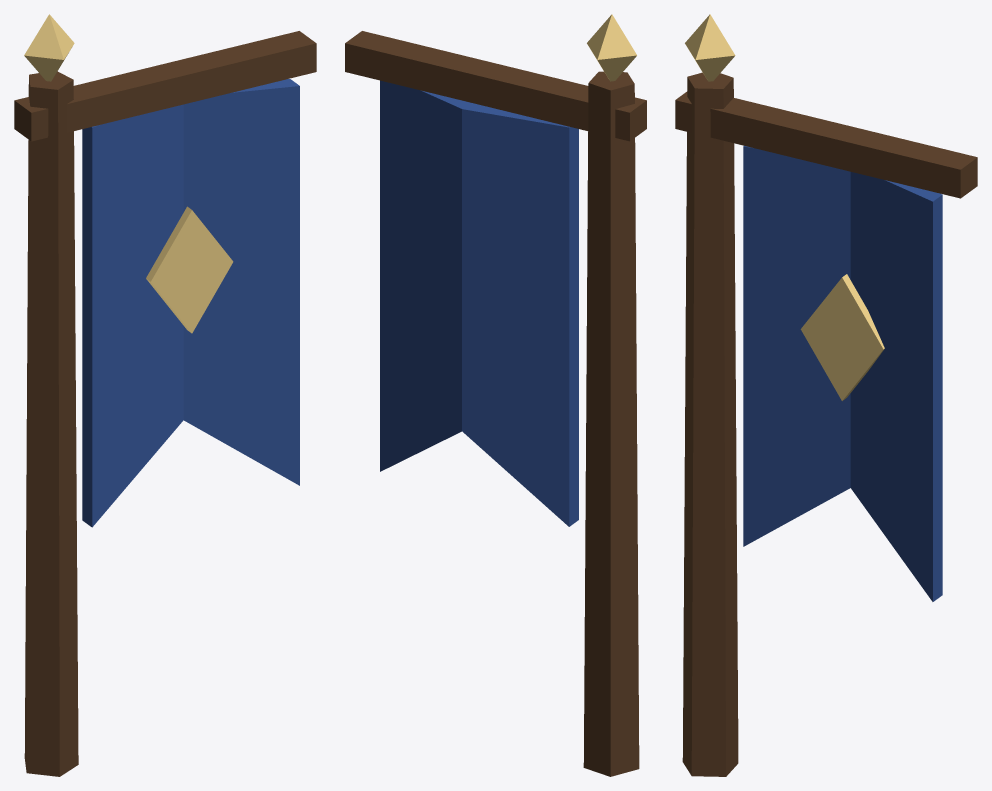
Rendered from deco_banner.glb.
3 views of the same model, side by side, from view 1: azimuth 30°, elevation 25°; view 2: azimuth 150°, elevation 25°; view 3: azimuth 330°, elevation 25° (orthographic).
Visible parts, largest first — view 1: deco_banner_mesh; view 2: deco_banner_mesh; view 3: deco_banner_mesh.
Boxes of the visible parts, <box> form: deco_banner_mesh: <box>14,14,316,776</box>; deco_banner_mesh: <box>345,14,646,776</box>; deco_banner_mesh: <box>675,14,977,776</box>.
Size of the model in its own units: 0.135 by 0.34 by 0.024.
